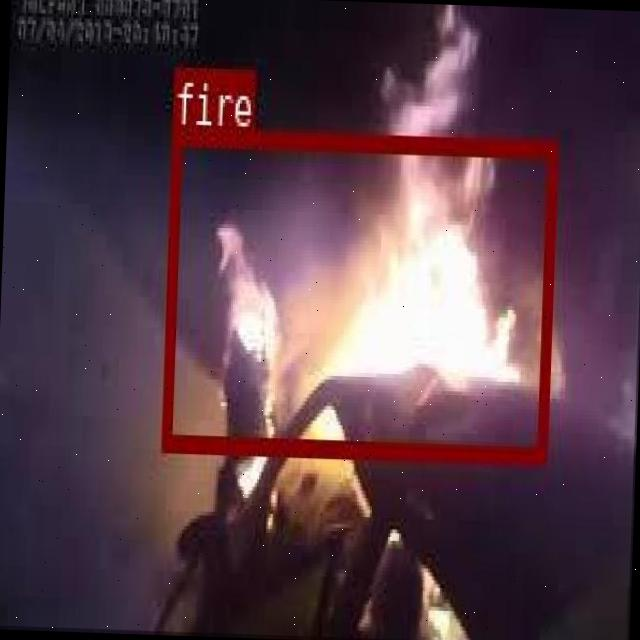fire: (160, 126, 554, 462)
